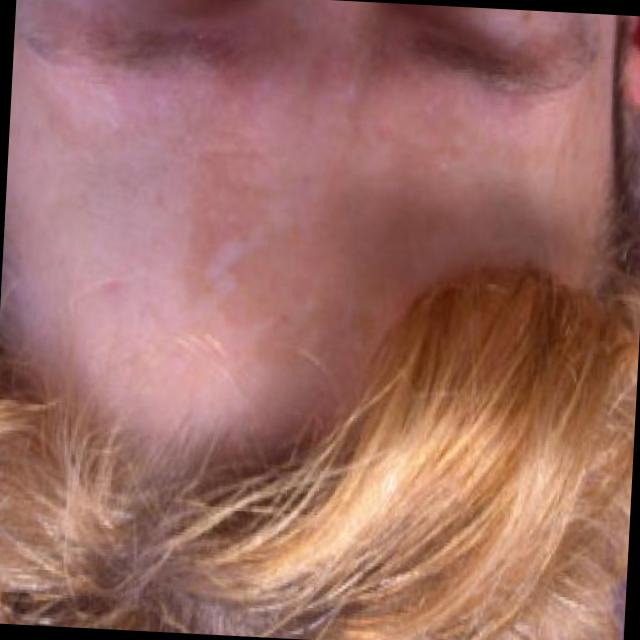melasma: (30, 75, 572, 386)
